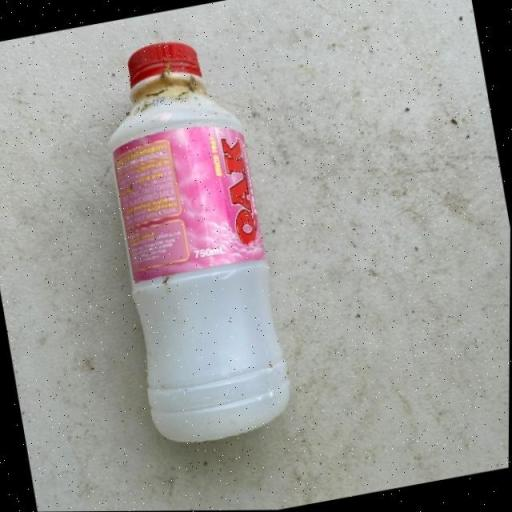plastic: (86, 27, 300, 451)
